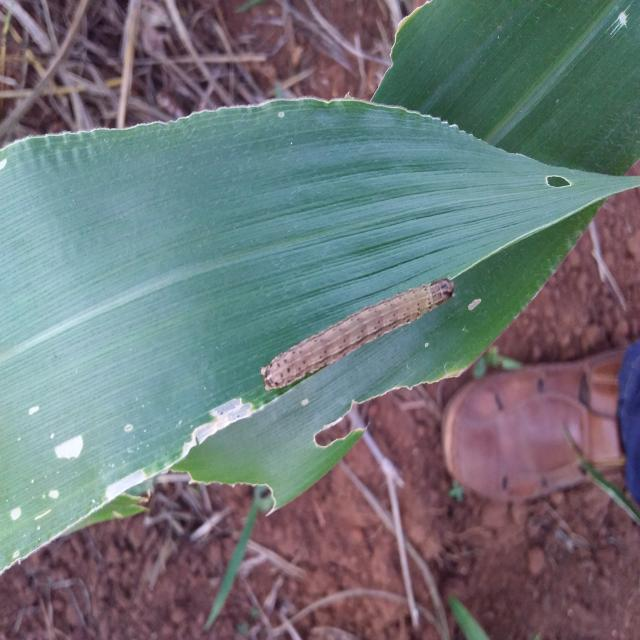yellow-stem-borer-larva: (244, 262, 476, 404)
